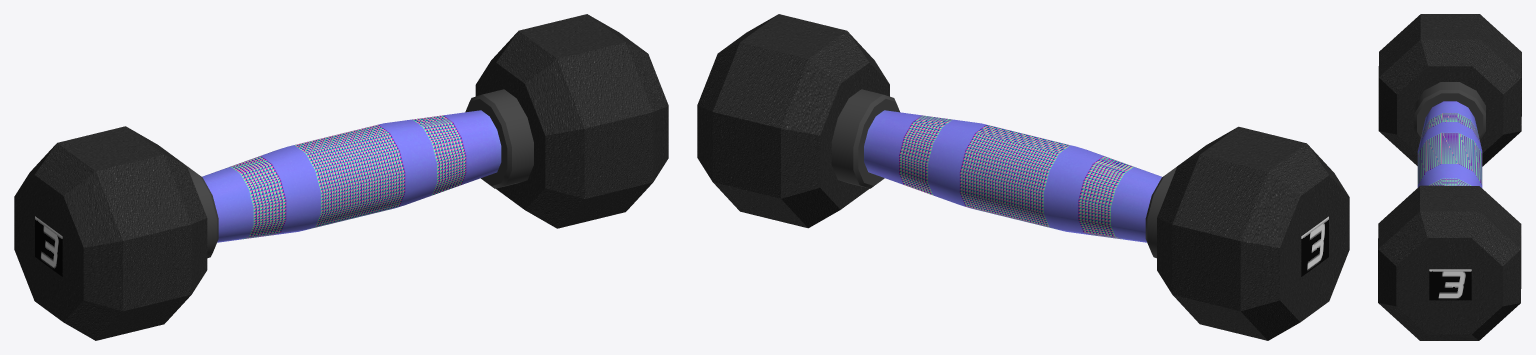
Rendered from Dumbbell_3kG.FBX.
3 views of the same model, side by side, from view 1: azimuth 30°, elevation 25°; view 2: azimuth 150°, elevation 25°; view 3: azimuth 270°, elevation 25° (orthographic). The views are drawn at different scales.
Visible parts, largest first — view 1: Dumbbell_3kG; view 2: Dumbbell_3kG; view 3: Dumbbell_3kG.
Part boxes in pixels (x1,y1,x2,y2): Dumbbell_3kG: [14, 14, 668, 340]; Dumbbell_3kG: [697, 14, 1349, 340]; Dumbbell_3kG: [1378, 14, 1521, 340].
Size of the model in its own units: 0.2578 by 0.0718 by 0.0715.
